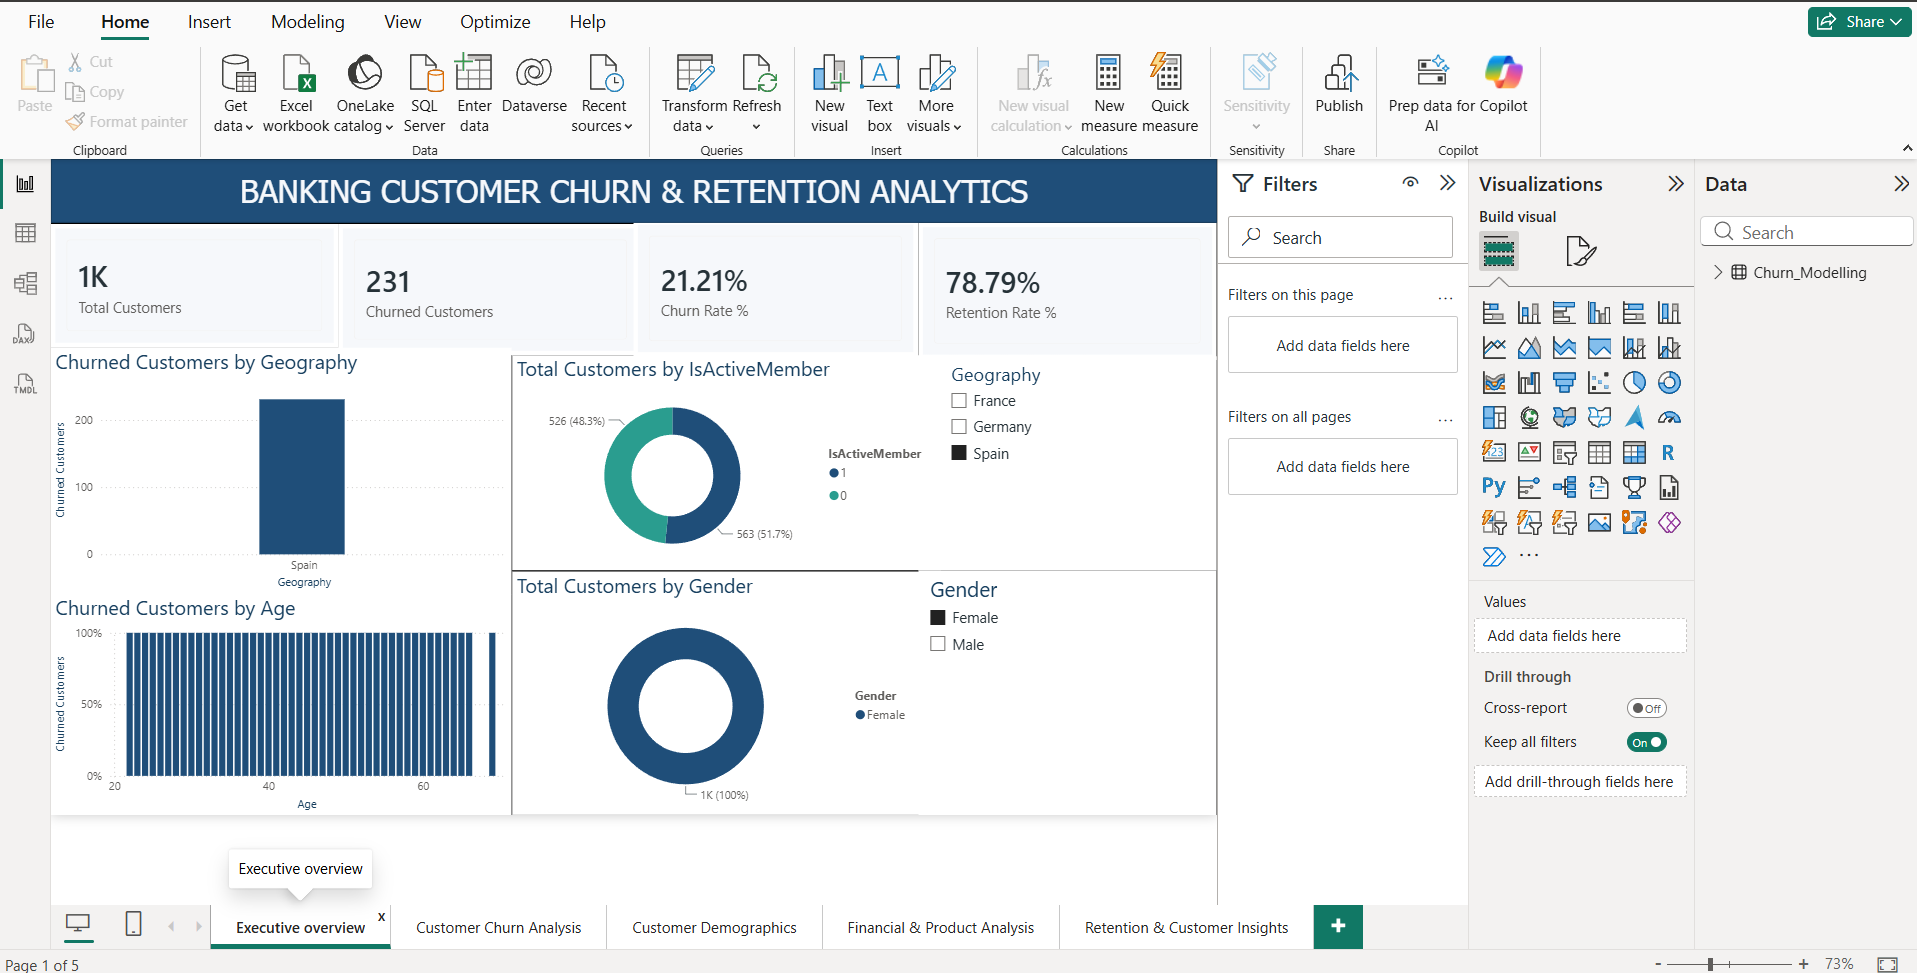

What the dashboard file says about the page in this screenshot:
{"tool":"powerbi","page":{"name":"Executive overview","canvas":[1280,720],"ordinal":0},"visuals":[{"type":"cardVisual","fields":{"Data":["Churn_Modelling.Total Customers"]},"box":[0,71.4,315.7,135.7],"z":0},{"type":"cardVisual","fields":{"Data":["Churn_Modelling.Churned Customers"]},"box":[315.7,71.4,334.3,144.3],"z":1000},{"type":"cardVisual","fields":{"Data":["Churn_Modelling.Churn Rate %"]},"box":[640,67.1,312.9,150],"z":2000},{"type":"cardVisual","fields":{"Data":["Churn_Modelling.Retention Rate %"]},"box":[952.9,70,327.1,150],"z":3000},{"type":"lineClusteredColumnComboChart","fields":{"Category":["Churn_Modelling.Geography"],"Y":["Churn_Modelling.Churned Customers"]},"box":[0,207.1,505.7,270],"z":4000},{"type":"donutChart","fields":{"Category":["Churn_Modelling.Gender"],"Y":["Churn_Modelling.Total Customers"]},"box":[505.7,452.9,447.1,267.1],"z":5000},{"type":"hundredPercentStackedColumnChart","fields":{"Category":["Churn_Modelling.Age"],"Y":["Churn_Modelling.Churned Customers"]},"box":[0,477.1,505.7,242.9],"z":6000},{"type":"donutChart","fields":{"Category":["Churn_Modelling.IsActiveMember"],"Y":["Churn_Modelling.Total Customers"]},"box":[505.7,215.7,470,235.7],"z":7000},{"type":"slicer","fields":{"Values":["Churn_Modelling.Geography"]},"box":[975.7,217.1,304.3,234.3],"z":8000},{"type":"slicer","fields":{"Values":["Churn_Modelling.Gender"]},"box":[952.9,451.4,327.1,268.6],"z":9000},{"type":"shape","box":[0,0,1280,70],"z":10000}]}

Visuals, with their boxes on the page's 1280x720 design canvas (x1, y1, x2, y2). These are canvas units, not pixel positions in the 1917x973 screenshot, which may show the page scaled, cropped or inside an application window:
cardVisual - Churn_Modelling.Total Customers: left=0, top=71, right=316, bottom=207
cardVisual - Churn_Modelling.Churned Customers: left=316, top=71, right=650, bottom=216
cardVisual - Churn_Modelling.Churn Rate %: left=640, top=67, right=953, bottom=217
cardVisual - Churn_Modelling.Retention Rate %: left=953, top=70, right=1280, bottom=220
lineClusteredColumnComboChart - Churn_Modelling.Geography x Churn_Modelling.Churned Customers: left=0, top=207, right=506, bottom=477
donutChart - Churn_Modelling.Gender x Churn_Modelling.Total Customers: left=506, top=453, right=953, bottom=720
hundredPercentStackedColumnChart - Churn_Modelling.Age x Churn_Modelling.Churned Customers: left=0, top=477, right=506, bottom=720
donutChart - Churn_Modelling.IsActiveMember x Churn_Modelling.Total Customers: left=506, top=216, right=976, bottom=451
slicer - Churn_Modelling.Geography: left=976, top=217, right=1280, bottom=451
slicer - Churn_Modelling.Gender: left=953, top=451, right=1280, bottom=720
shape: left=0, top=0, right=1280, bottom=70
